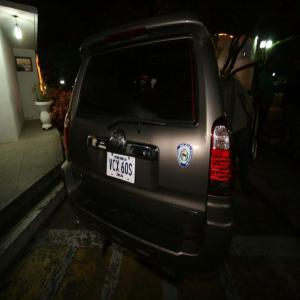Vehicle-registration-plate: (99, 148, 141, 190)
